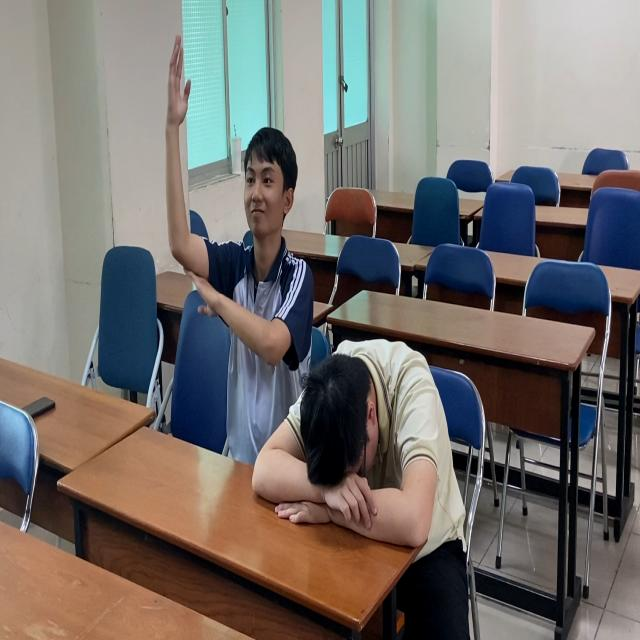raise_hand: (161, 31, 318, 358)
sleep: (252, 338, 464, 562)
